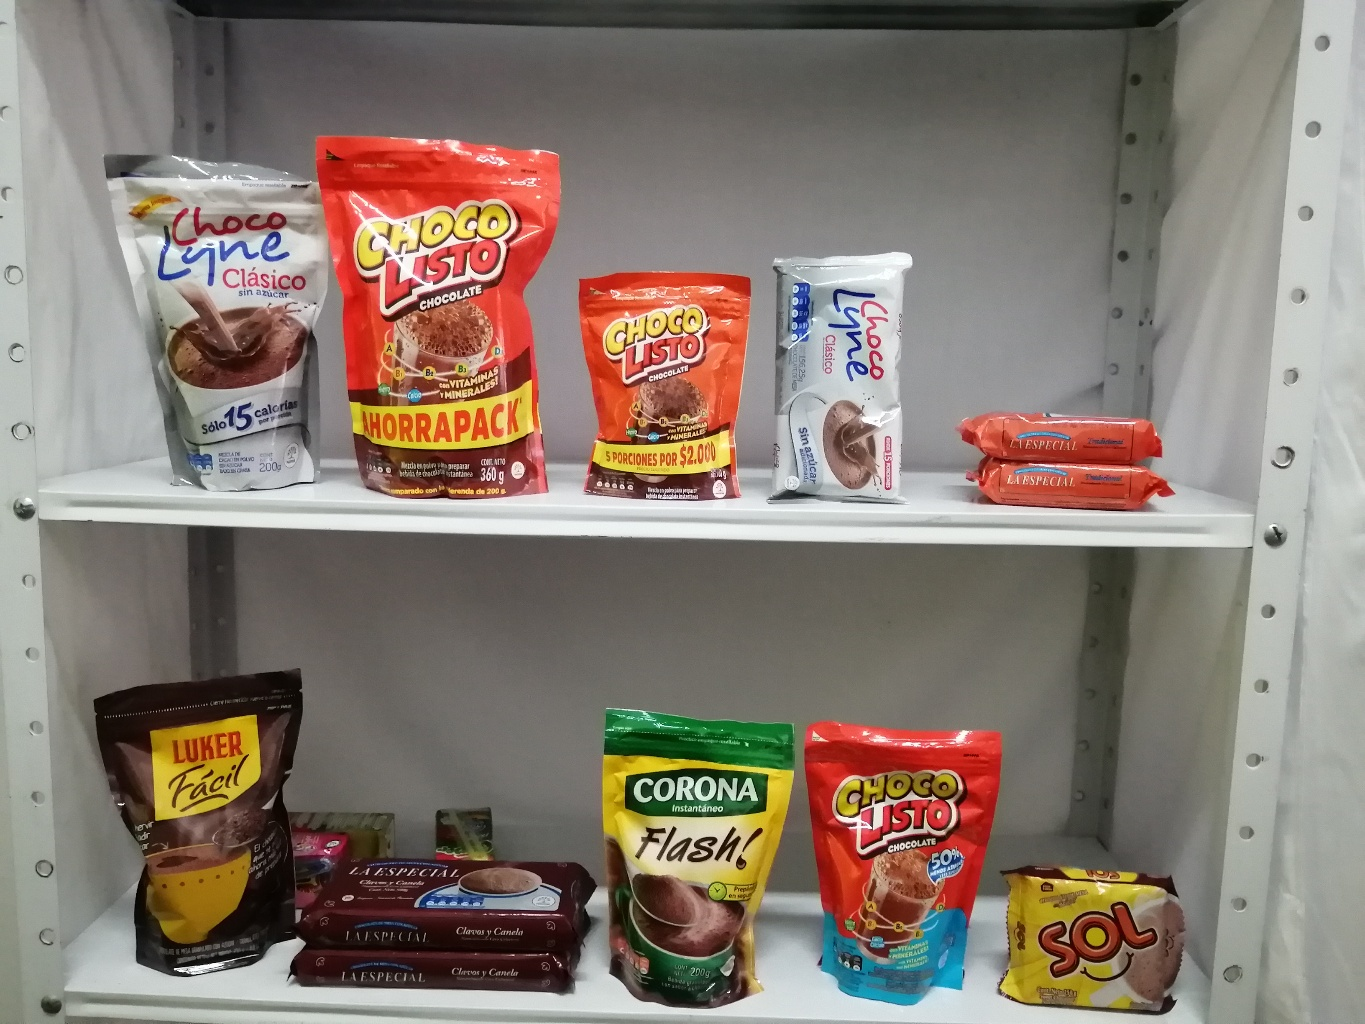COL0170103DYP36000: (307, 126, 572, 504)
COL0170104DYP20000: (801, 696, 1003, 1016)
